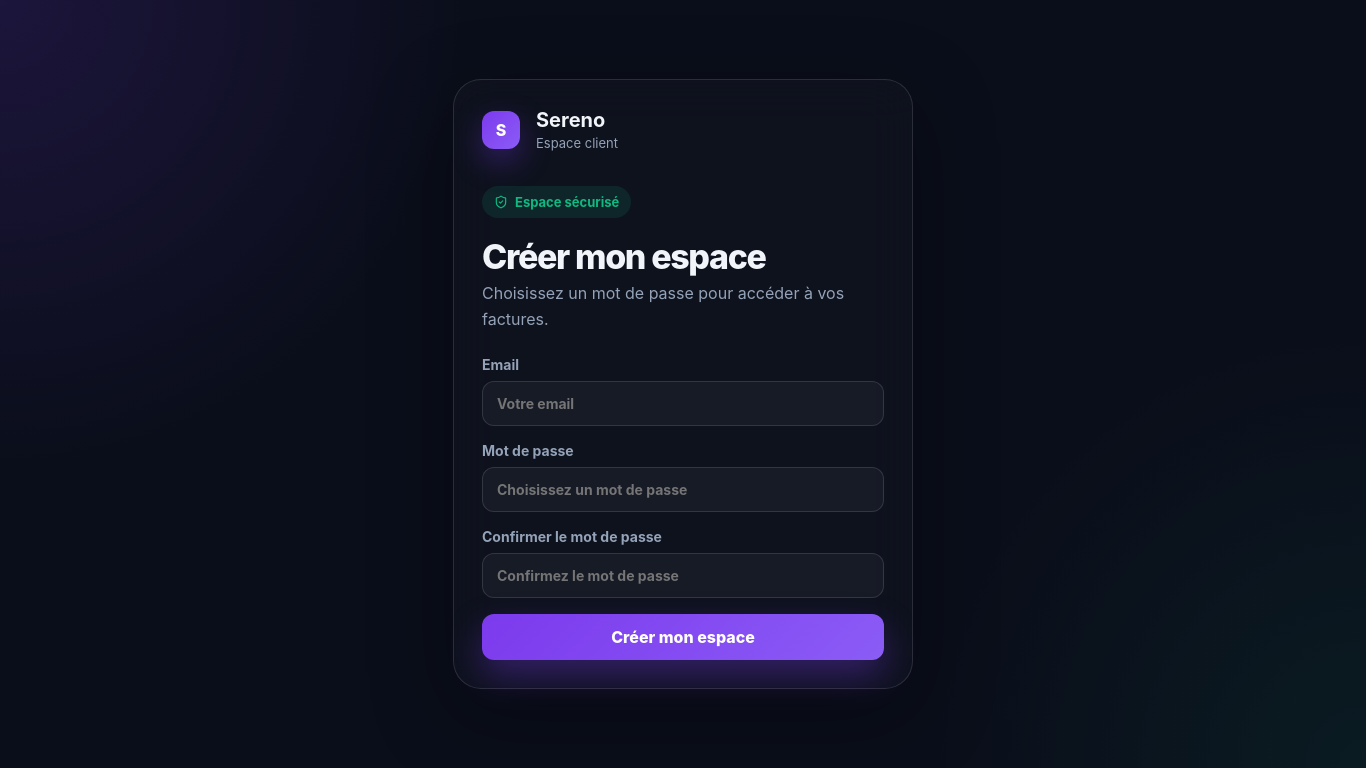
EspaceClientActivationPage › mot de passe trop court -> erreur cliente, AUCUN appel API
In the field with placeholder "Votre email": (683, 404) x1=482 y1=381 x2=884 y2=426, type "nouveau@test.fr"
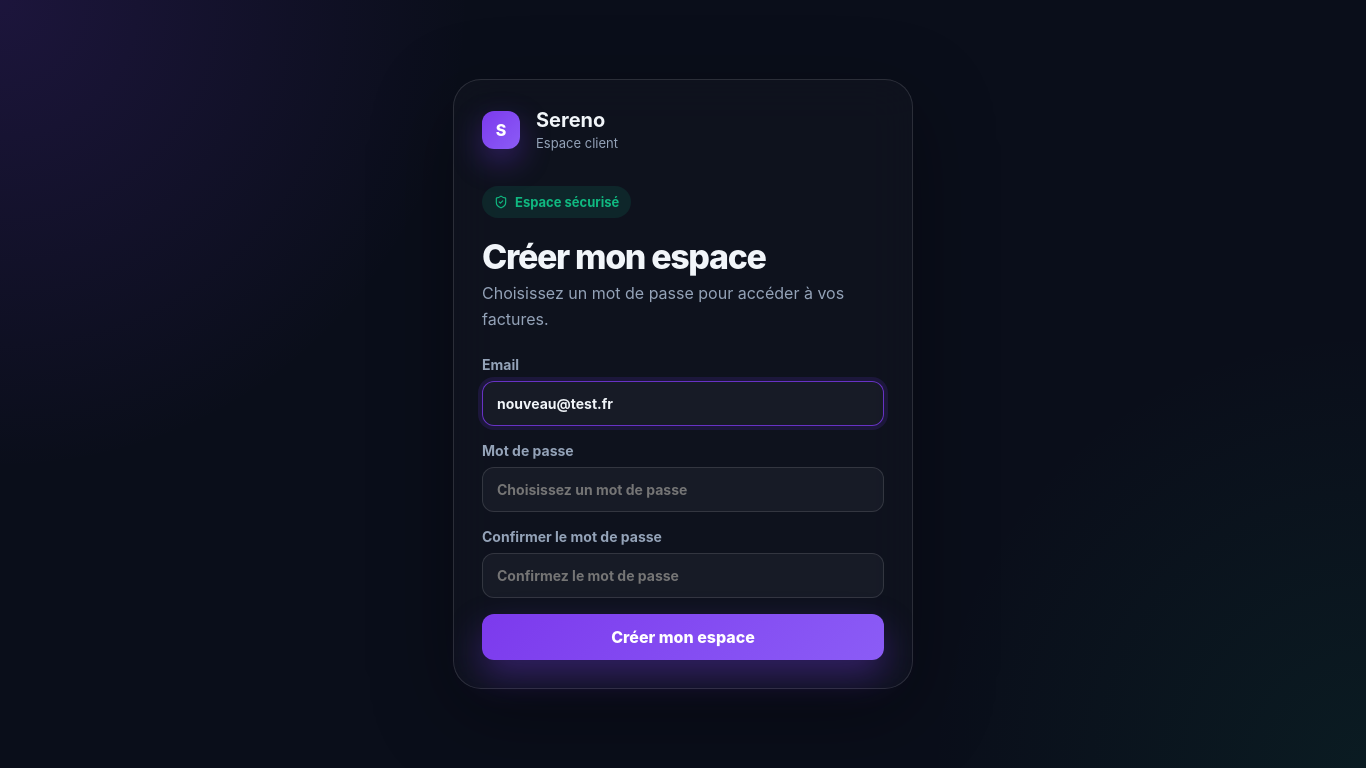
In the password field with placeholder "Choisissez un mot de passe": (683, 490) x1=482 y1=467 x2=884 y2=512, type "court"
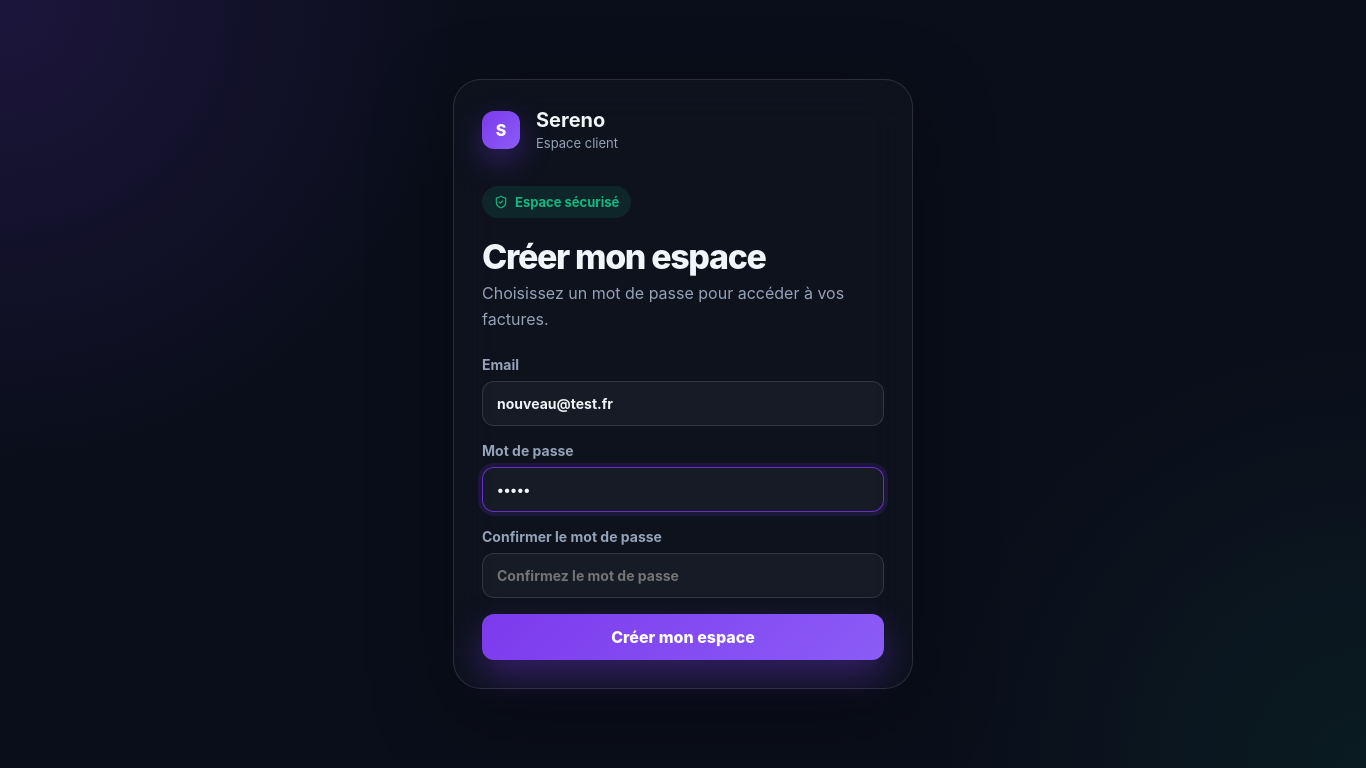
In the password field with placeholder "Confirmez le mot de passe": (683, 576) x1=482 y1=553 x2=884 y2=598, type "court"
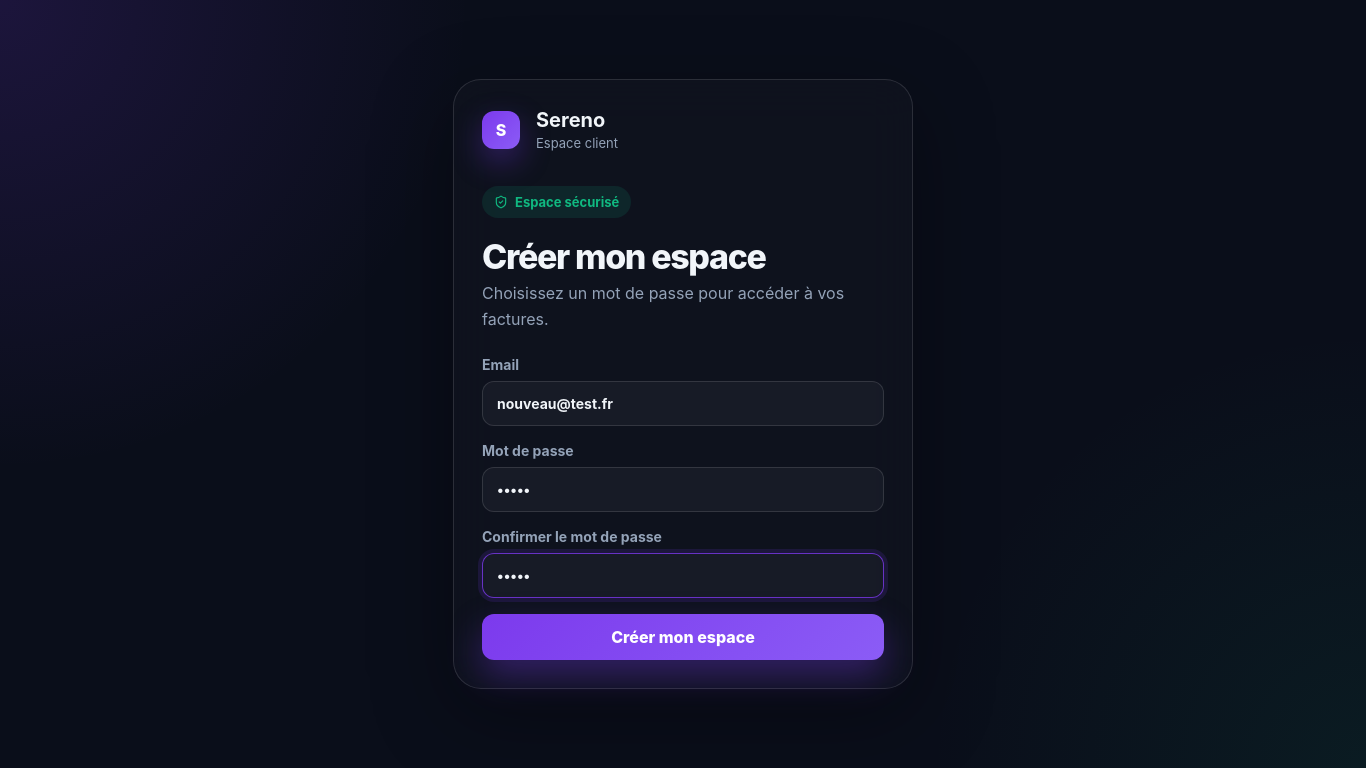
Click the button "Créer mon espace": (683, 637) x1=482 y1=614 x2=884 y2=660
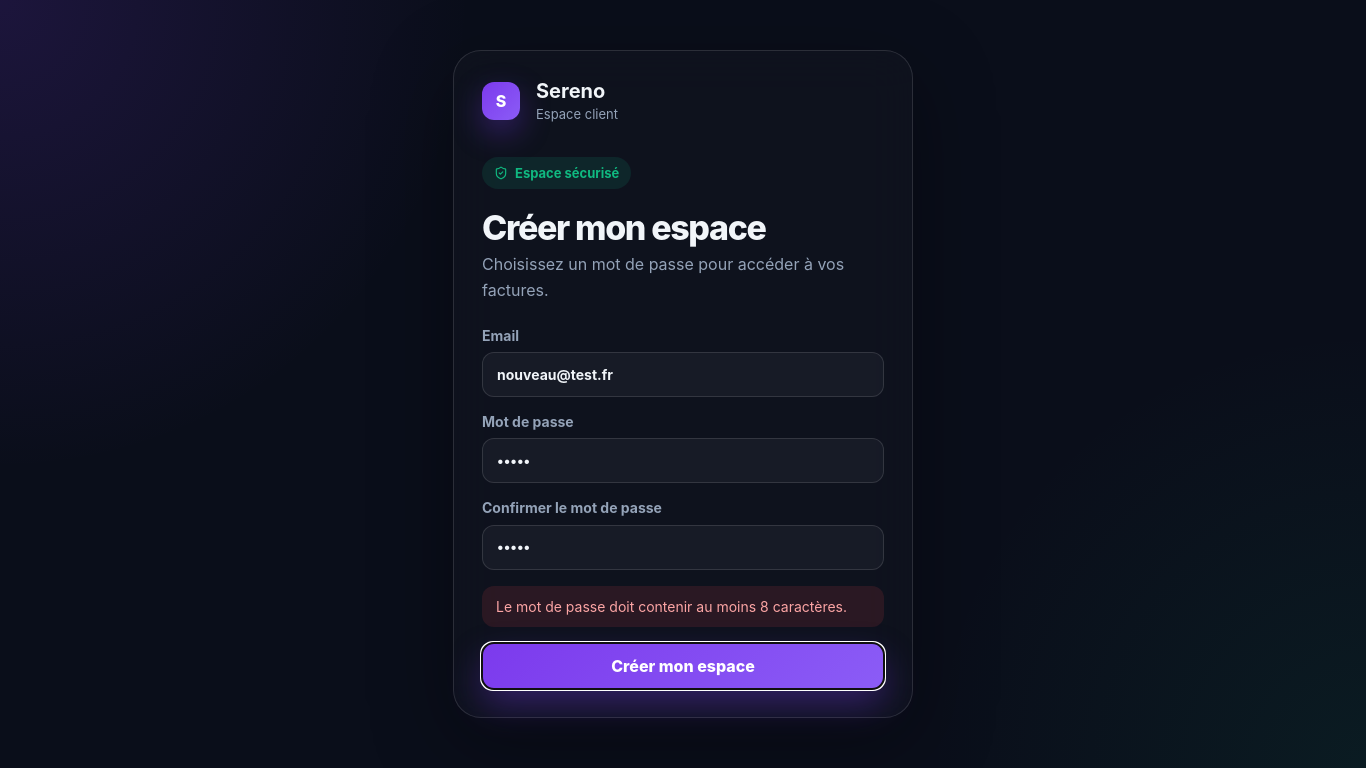
Result: the text "Le mot de passe doit contenir au moins 8 caractères." is shown at x1=482 y1=586 x2=884 y2=627
